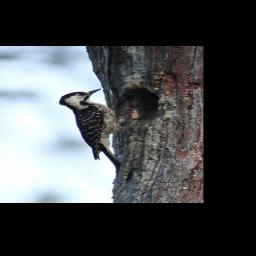Woodpecker: (57, 87, 147, 169)
